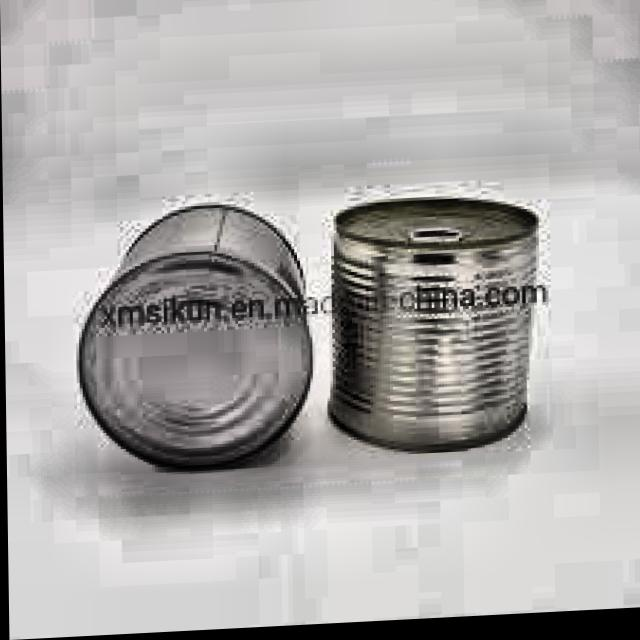can: (71, 198, 322, 483), (319, 190, 549, 473)
